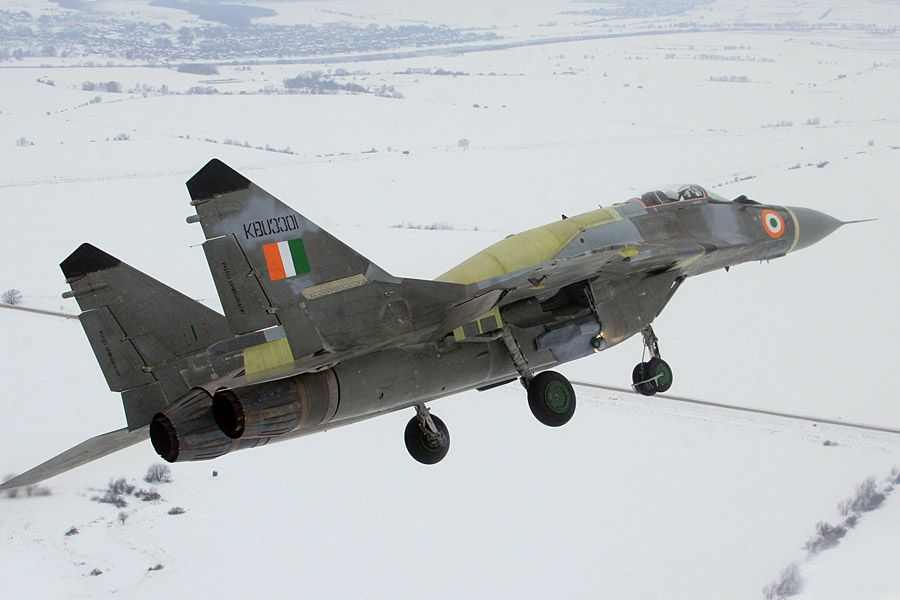Mig-29: (68, 62, 823, 481)
